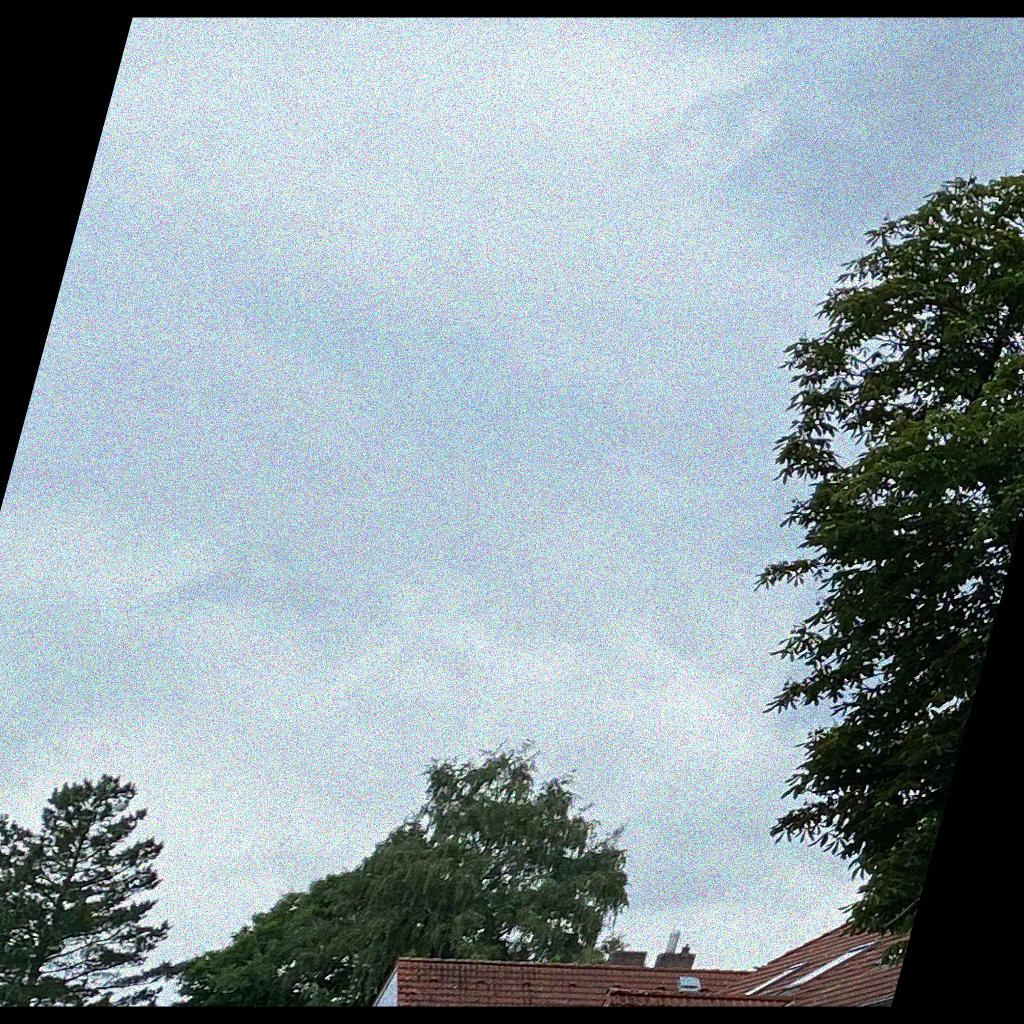tree: (753, 173, 1023, 965), (175, 739, 630, 1007), (1, 772, 182, 1006)
